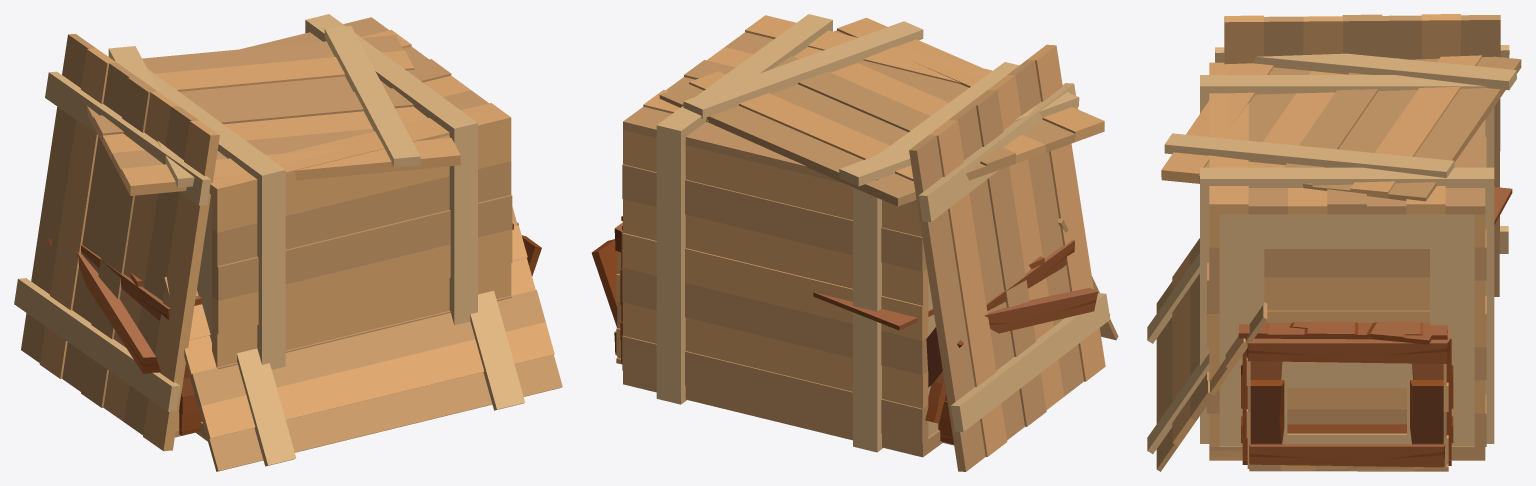
Rendered from BoxBigSmallSet1.fbx.
3 renders of one model, left to right at view 1: azimuth 30°, elevation 25°; view 2: azimuth 150°, elevation 25°; view 3: azimuth 270°, elevation 25°, orthographic. The views are drawn at different scales.
Parts seen in each view (by area): view 1: Box_big1, Box_big1.2, Box_small1.2, Box_big1.1, Box_small1.3, Box_small1; view 2: Box_big1, Box_big1.2, Box_big1.1, Box_small1.3, Box_big_detail1, Box_small1, Box_small1.1, Box_small1.2; view 3: Box_big1, Box_big1.1, Box_small1.2, Box_big1.2, Box_small1.3, Box_small1, Box_small1.1, Box_small_deatail1, Box_big_detail1.
Part boxes in pixels (x1,y1,x2,y2): Box_big1: [148, 14, 512, 436]; Box_big1.2: [14, 33, 219, 451]; Box_small1.2: [162, 206, 562, 471]; Box_big1.1: [87, 26, 460, 195]; Box_small1.3: [75, 235, 541, 435]; Box_small1: [81, 222, 518, 431]; Box_big1: [622, 14, 1019, 452]; Box_big1.2: [909, 44, 1110, 471]; Box_big1.1: [659, 17, 1104, 206]; Box_small1.3: [591, 239, 1097, 444]; Box_big_detail1: [623, 378, 942, 457]; Box_small1: [614, 222, 1074, 438]; Box_small1.1: [621, 216, 1044, 387]; Box_small1.2: [616, 218, 1118, 358]; Box_big1: [1200, 62, 1494, 456]; Box_big1.1: [1161, 53, 1521, 201]; Box_small1.2: [1147, 238, 1448, 471]; Box_big1.2: [1215, 14, 1509, 296]; Box_small1.3: [1242, 380, 1451, 467]; Box_small1: [1238, 322, 1453, 460]; Box_small1.1: [1289, 187, 1512, 344]; Box_small_deatail1: [1249, 464, 1448, 471]; Box_big_detail1: [1200, 425, 1493, 460].
Bounding box in the file's own units: 234 × 170 × 188.
